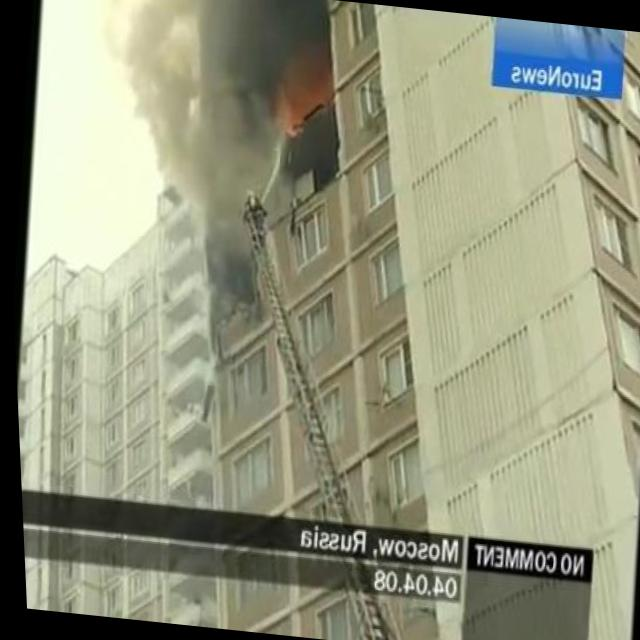fire: (278, 59, 333, 132)
